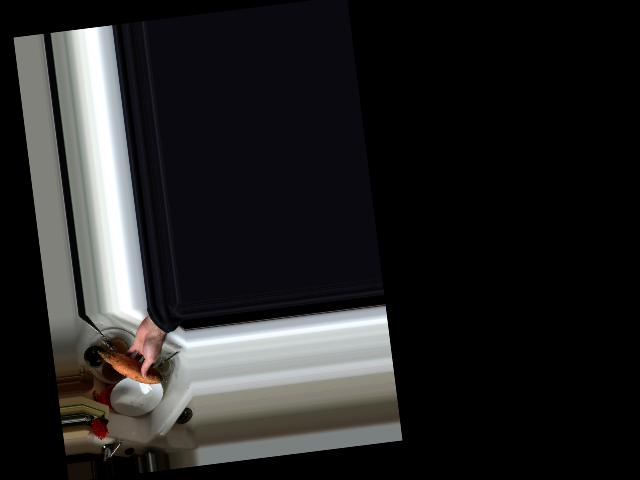sweet_potato: (98, 341, 164, 392)
